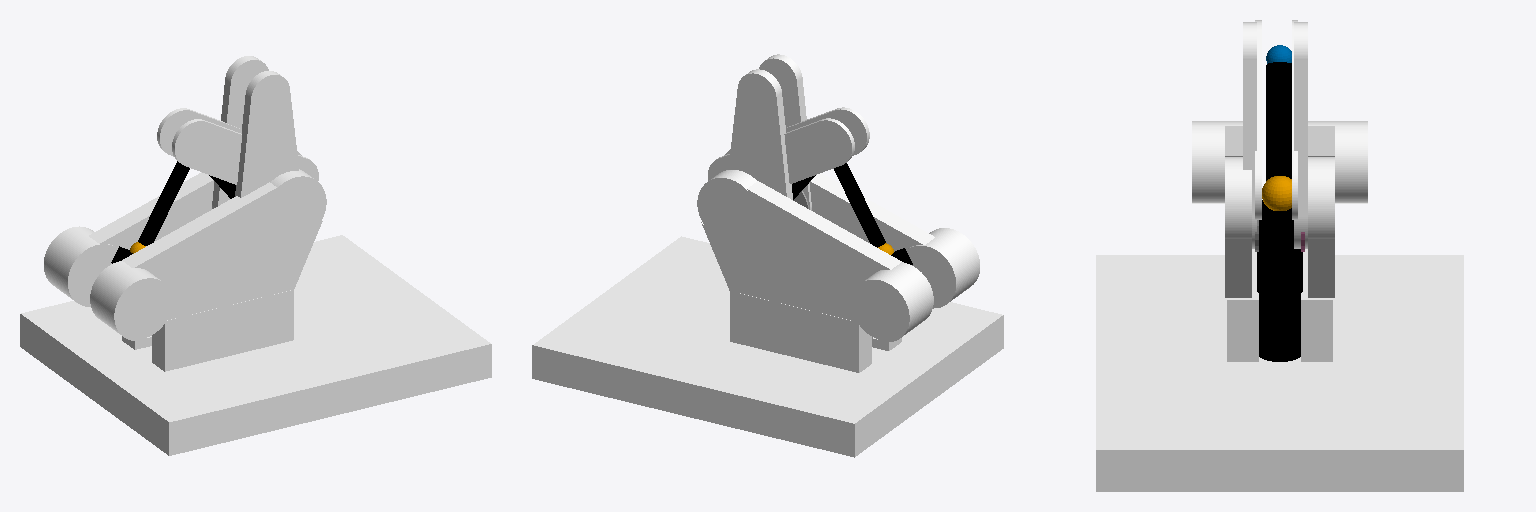
URDF robot description (rhino):
<?xml version="1.0"?>
<robot xmlns:xacro="http://www.ros.org/wiki/xacro" name="rhino">

    <material name="blue">
        <color rgba="0 0 0.8 1"/>
    </material>
    <material name="black">
        <color rgba="0 0 0 1"/>
    </material>
    <material name="white">
        <color rgba="1 1 1 1"/>
    </material>

    <link name="base_link">
        <visual>
            <geometry>
                <box size="1.0 0.8 0.1"/>
            </geometry>
            <material name="white"/>
        </visual>
    </link>

    <link name="cuadrado_1">
        <visual>
            <geometry>
                <!-- El tamaño del cuadrado, altura = 0.2 (mitad del largo del tronco) -->
                <box size="0.4 0.07 0.2"/>
            </geometry>
            <material name="white"/>
            <!-- Ajusta la posición según sea necesario -->
            <origin rpy="0 0 0" xyz="-0.15 0 0.1"/>
        </visual>
    </link>

    <joint name="base_cuadrado1" type="fixed">
        <parent link="base_link"/>
        <child link="cuadrado_1"/>
        <origin xyz="0 0.08 0"/>
    </joint>

    <link name="cuadrado_2">
        <visual>
            <geometry>
                <!-- El tamaño del cuadrado, altura = 0.2 (mitad del largo del tronco) -->
                <box size="0.4 0.07 0.2"/>
            </geometry>
            <material name="white"/>
            <!-- Ajusta la posición según sea necesario -->
            <origin rpy="0 0 0" xyz="-0.15 0 0.1"/>
        </visual>
    </link>

    <joint name="base_cuadrado2" type="fixed">
        <parent link="base_link"/>
        <child link="cuadrado_2"/>
        <origin xyz="0 -0.08 0"/>
    </joint>

    <link name="prueba">
        <visual>
            <origin rpy="0 0 0" xyz="0 0 0.19"/>
            <geometry>
                <mesh filename="package://rhino_description/meshes/prueba.stl" scale="0.001 0.001 0.001"/>
            </geometry>
            <material name="white"/>
        </visual>
    </link>

    <joint name="tronco_to_prueba" type="fixed">
        <parent link="tronco"/>
        <child link="prueba"/>
        <origin xyz="-0.2 -0.06 0" rpy="0 0 0"/>
    </joint>

    <link name="prueba1">
        <visual>
            <origin rpy="0 0 0" xyz="0 0 0.19"/>
            <geometry>
                <mesh filename="package://rhino_description/meshes/prueba.stl" scale="0.001 -0.001 0.001"/>
            </geometry>
            <material name="white"/>
        </visual>
    </link>

    <joint name="tronco_to_prueba1" type="fixed">
        <parent link="tronco"/>
        <child link="prueba1"/>
        <origin xyz="-0.2 0.06 0" rpy="0 0 0"/>
    </joint>

    <link name="tronco">
        <visual>
            <geometry>
                <cylinder radius="0.05" length="0.4"/>
            </geometry>
            <material name="black"/>
            <origin rpy="0 0 0" xyz="0 0 0.1"/>
        </visual>
    </link>

    <joint name="base_tronco" type="revolute">
        <parent link="base_link"/>
        <child link="tronco"/>
        <origin xyz="0 0 0.1"/>
        <!-- Eje Z para permitir la rotación -->
        <axis xyz="0 0 1"/>
        <limit effort="1000.0" velocity="0.5" lower="-3.14" upper="3.14"></limit> 
    </joint>

    <link name="tuerca_der">
        <visual>
            <geometry>
                <cylinder radius="0.1" length="0.01"/>
            </geometry>
            <origin rpy="1.57 1.57 0" xyz="0 0.05 0.3"/>
        </visual> 
    </link>

    <joint name="tronco_to_tuerca_der" type="fixed">
        <parent link="tronco"/>
        <child link="tuerca_der"/>
        <!-- Posición relativa a "tronco" -->
        <origin xyz="0 0 0"/>
    </joint>

    <link name="tuerca_izq">
        <visual>
            <geometry>
                <cylinder radius="0.1" length="0.01"/>
            </geometry>
            <origin rpy="-1.57 1.57 0" xyz="0 -0.05 0.3"/>
        </visual> 
    </link>

    <joint name="tronco_to_tuerca_izq" type="fixed">
        <parent link="tronco"/>
        <child link="tuerca_izq"/>
        <!-- Posición relativa a "tronco" -->
        <origin xyz="0 0 0"/>
    </joint>

    <link name="rueda_de_tronco">
        <visual>
            <geometry>
                <sphere radius="0.04"/>
            </geometry>
            <origin rpy="0 0 0" xyz="0 0 0"/>
        </visual>
    </link>

    <joint name="rueda_para_tronco" type="fixed">
        <parent link="tronco"/>
        <child link="rueda_de_tronco"/>
        <origin xyz="0 0 0.33"/>
    </joint>

    <link name="brazo">
        <visual>
            <geometry>
                <cylinder radius="0.03" length="0.3"/>
            </geometry>
            <material name="black"/>
            <origin rpy="0 -0.66 0" xyz="-0.10 0 0.10"/>
        </visual>
    </link>

    <joint name="hombro_brazo" type="revolute">
        <parent link="rueda_de_tronco"/>
        <child link="brazo"/>
        <origin xyz="0 0 0"/>
        <axis xyz="0 1 0"/> 
        <!-- Límite de rotación de -180 a 180 grados -->
        <limit effort="1000.0" velocity="0.5" lower="-0.9" upper="1.57"/>
    </joint>

    <link name="cubierta_brazo1">
        <visual>
            <origin rpy="0 0 0" xyz="0 0 0.18"/>
            <geometry>
                <mesh filename="package://rhino_description/meshes/brazo.stl" scale="0.001 0.001 0.001"/>
            </geometry>
            <material name="white"/>
        </visual>
    </link>

    <joint name="brazo_cubierto1" type="fixed">
        <parent link="brazo"/>
        <child link="cubierta_brazo1"/>
        <origin xyz=" 0 -0.05 -0.2" rpy="0 0 0"/>
    </joint>

    <link name="cubierta_brazo2">
        <visual>
            <origin rpy="0 0 0" xyz="0 0 0.18"/>
            <geometry>
                <mesh filename="package://rhino_description/meshes/brazo.stl" scale="0.001 0.001 0.001"/>
            </geometry>
            <material name="white"/>
        </visual>
    </link>

    <joint name="brazo_cubierto2" type="fixed">
        <parent link="brazo"/>
        <child link="cubierta_brazo2"/>
        <origin xyz=" 0 0.06 -0.2" rpy="0 0 0"/>
    </joint>

    <link name="codo">
        <visual>
            <geometry>
                <sphere radius="0.03"/>
            </geometry>
            <origin rpy="0 0 0" xyz="0 0 0"/>
        </visual>
    </link>

    <joint name="codo_de_brazo" type="fixed">
        <parent link="brazo"/>
        <child link="codo"/>
        <origin xyz="-0.2 0 0.23"/>
        <axis xyz="0 1 0"/>
    </joint>

    <link name="antebrazo">
        <visual>
            <geometry>
                <cylinder radius="0.02" length="0.3"/>
            </geometry>
            <material name="black"/>
            <origin rpy="0 1.5708 0" xyz="0.165 0 0.015"/>
        </visual>
    </link>

    <joint name="codo_antebrazo" type="revolute">
        <parent link="codo"/>
        <child link="antebrazo"/>
        <origin xyz="0 0 0"/>
        <axis xyz="0 1 0"/>
        <limit lower="1.7" upper="2.5" effort="1000.0" velocity="0.5"/>
    </joint>

    <link name="cubierta_antebrazo1">
        <visual>
            <origin rpy="0 0 0" xyz="0 0 0.18"/>
            <geometry>
                <mesh filename="package://rhino_description/meshes/antebrazo.stl" scale="0.001 0.001 0.001"/>
            </geometry>
            <material name="white"/>
        </visual>
    </link>

    <joint name="antebrazo_cubierta1" type="fixed">
        <parent link="antebrazo"/>
        <child link="cubierta_antebrazo1"/>
        <origin xyz=" 0 -0.04 -0.2" rpy="0 0 0"/>
    </joint>

    <link name="cubierta_antebrazo2">
        <visual>
            <origin rpy="0 0 0" xyz="0 0 0.18"/>
            <geometry>
                <mesh filename="package://rhino_description/meshes/antebrazo.stl" scale="0.001 0.001 0.001"/>
            </geometry>
            <material name="white"/>
        </visual>
    </link>

    <joint name="antebrazo_cubierto2" type="fixed">
        <parent link="antebrazo"/>
        <child link="cubierta_antebrazo2"/>
        <origin xyz=" 0 0.04 -0.2" rpy="0 0 0"/>
    </joint>

    <link name="muneca_cil">
        <visual>
            <geometry>
                <sphere radius="0.03"/>
            </geometry>
            <origin rpy="0 0 0" xyz="0 0 0"/>
        </visual>
    </link>

    <joint name="antebrazo_muneca" type="fixed">
        <parent link="antebrazo"/>
        <child link="muneca_cil"/>
        <origin xyz="0.34 0 0.015"/>
        <axis xyz="0 1 0"/>
        <limit lower="-3.14" upper="3.14" effort="1000.0" velocity="0.5"/>
    </joint>  

    <link name="muneca">
        <visual>
            <geometry>
                <box size="0.05 0.05 0.08"/>
            </geometry>
            <origin rpy="0 0 0" xyz="0.033 0 -0.015"/>
            <material name="black"/>
        </visual>
    </link>
    <joint name="muneca" type="revolute">
        <parent link="muneca_cil"/>
        <child link="muneca"/>
        <origin xyz="0 0 0"/>
        <axis xyz="0 1 0"/>
        <limit lower="-3.14" upper="3.14" effort="1000.0" velocity="0.5"/>
    </joint>

    <link name="engranaje_muneca">
        <visual>
            <geometry>
            <mesh filename="package://rhino_description/meshes/Engranaje.stl" scale="0.001 0.001 0.001"/> 
            </geometry>
            <origin rpy="0 0 0" xyz="-0.031 -0.036 0"/>
            <material name="blue"/>
        </visual>
    </link>

    <joint name="engranaje_giro" type="continuous">
        <parent link="muneca"/>
        <child link="engranaje_muneca"/>
        <origin xyz="0.033 0 -0.06"/>
        <axis xyz="0 0 1"/>

    </joint>
    <!-- <link name="mano">
        <visual>
            <geometry>
                <cylinder radius="0.01" length="0.2"/>
            </geometry>
            <origin rpy="0 0 0" xyz="0 0 0.14"/>
        </visual>
    </link>

    <joint name="muneca_mano" type="fixed">
        <parent link="muneca"/>
        <child link="mano"/>
        <origin xyz="0 0 0"/>
    </joint>

    <link name="left_gripper">
        <visual>
            <origin rpy="0 -1.57 0" xyz="0 0 0.2"/>
            <geometry>
                <mesh filename="package://urdf_tutorial/meshes/l_finger.dae"/>
            </geometry>
        </visual>
    </link>

    <joint name="gripper_izquierdo" type="revolute">
        <parent link="muneca"/>
        <child link="left_gripper"/>
        <limit effort="1000.0" lower="-0.38" upper="0" velocity="0.5"/>
        <origin rpy="0 0 0" xyz="0 0.01 0"/>
        <axis xyz="0.0 0.0 -1.0"/>
    </joint>

    <link name="right_gripper">
        <visual>
            <origin rpy="3.14 -1.57 0" xyz="0 0 0.2"/>
            <geometry>
                <mesh filename="package://urdf_tutorial/meshes/l_finger.dae"/>
            </geometry>
        </visual>
    </link>

    <joint name="gripper_right" type="revolute">
        <parent link="muneca"/>
        <child link="right_gripper"/>
        <limit effort="1000.0" lower="-0.38" upper="0" velocity="0.5"/>
        <origin rpy="0 0 0" xyz="0 -0.01 0"/>
        <axis xyz="0 0.0 1.0"/>
    </joint> -->

</robot>

--- Render facts (derived) ---
The picture shows the robot from 3 angles, left to right: view 1: azimuth 30°, elevation 25°; view 2: azimuth 150°, elevation 25°; view 3: azimuth 270°, elevation 25°; orthographic projection.
Robot: rhino — 19 links, 18 joints (4 revolute, 1 continuous, 13 fixed); root link base_link; default pose: all joints at 0 but 1 set to mid-range because 0 is outside their limits (codo_antebrazo = 2.1).
Visible links, largest first — view 1: base_link, prueba, cuadrado_2, prueba1, cubierta_brazo1, cubierta_antebrazo1, cubierta_brazo2, antebrazo, cubierta_antebrazo2; view 2: base_link, prueba1, cuadrado_1, prueba, cubierta_brazo2, cubierta_antebrazo2, cubierta_brazo1, antebrazo, cubierta_antebrazo1; view 3: base_link, prueba1, prueba, tronco, brazo, cubierta_brazo2, cuadrado_1, cuadrado_2, cubierta_brazo1, cubierta_antebrazo1, rueda_de_tronco, cubierta_antebrazo2.
Link boxes in pixels (x1=…): base_link: x1=20, y1=235, x2=491, y2=455; prueba: x1=90, y1=169, x2=326, y2=340; cuadrado_2: x1=152, y1=290, x2=293, y2=371; prueba1: x1=44, y1=172, x2=213, y2=306; cubierta_brazo1: x1=235, y1=71, x2=298, y2=197; cubierta_antebrazo1: x1=172, y1=119, x2=318, y2=184; cubierta_brazo2: x1=212, y1=56, x2=268, y2=208; antebrazo: x1=138, y1=161, x2=189, y2=245; cubierta_antebrazo2: x1=157, y1=108, x2=301, y2=156; base_link: x1=532, y1=236, x2=1003, y2=457; prueba1: x1=697, y1=170, x2=933, y2=342; cuadrado_1: x1=730, y1=291, x2=871, y2=372; prueba: x1=809, y1=173, x2=979, y2=308; cubierta_brazo2: x1=728, y1=69, x2=792, y2=199; cubierta_antebrazo2: x1=708, y1=118, x2=854, y2=183; cubierta_brazo1: x1=759, y1=54, x2=811, y2=210; antebrazo: x1=834, y1=163, x2=885, y2=247; cubierta_antebrazo1: x1=725, y1=107, x2=869, y2=155; base_link: x1=1096, y1=255, x2=1463, y2=491; prueba1: x1=1308, y1=121, x2=1367, y2=297; prueba: x1=1192, y1=121, x2=1251, y2=297; tronco: x1=1257, y1=200, x2=1302, y2=361; brazo: x1=1266, y1=62, x2=1291, y2=180; cubierta_brazo2: x1=1294, y1=22, x2=1307, y2=248; cuadrado_1: x1=1301, y1=249, x2=1332, y2=361; cuadrado_2: x1=1227, y1=249, x2=1258, y2=361; cubierta_brazo1: x1=1243, y1=22, x2=1256, y2=248; cubierta_antebrazo1: x1=1255, y1=20, x2=1261, y2=219; rueda_de_tronco: x1=1262, y1=176, x2=1291, y2=210; cubierta_antebrazo2: x1=1292, y1=20, x2=1297, y2=219.
Bounding box of the posed robot: 1.05 × 0.8 × 0.8838 m (x, y, z).
Meshes: 4 distinct files referenced, 6 mesh visuals loaded (3 binary STL); not drawn: 1 (reference not matched to a file when rendering).